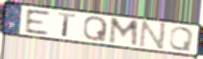E: (24, 8, 52, 36)
M: (107, 16, 140, 49)
N: (138, 20, 169, 52)
Q: (82, 15, 110, 43), (167, 26, 195, 53)
T: (57, 11, 79, 39)
